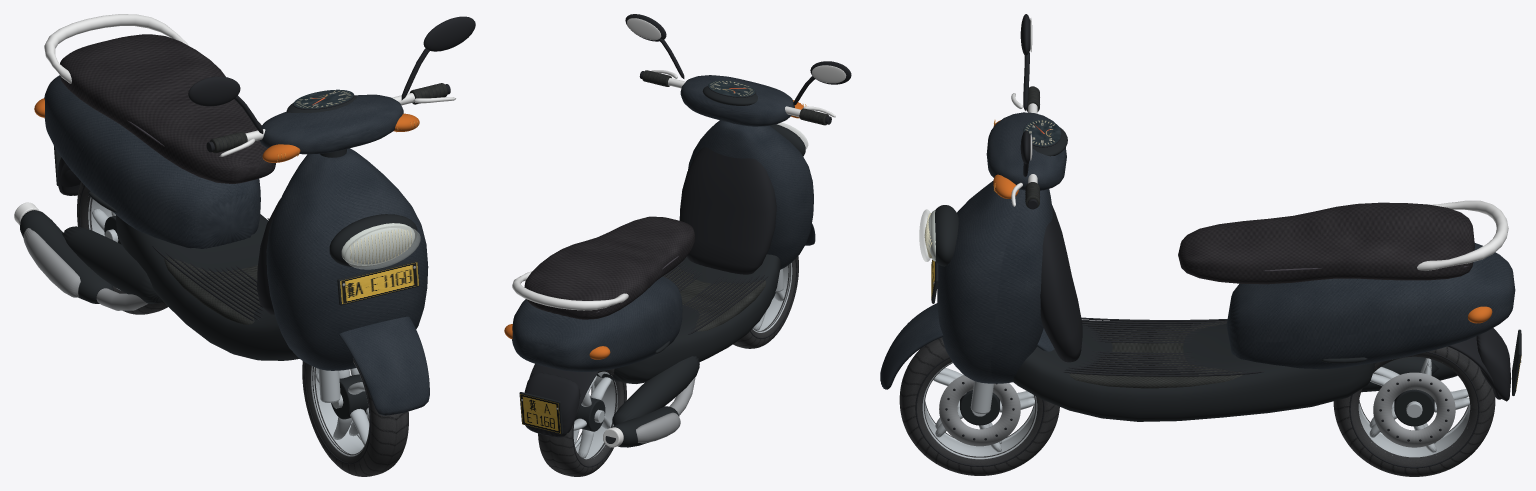
Rendered from scooter-jia-e7168.glb.
3 renders of one model, left to right at view 1: azimuth 30°, elevation 25°; view 2: azimuth 150°, elevation 25°; view 3: azimuth 270°, elevation 25°, orthographic. The views are drawn at different scales.
Parts seen in each view (by area): view 1: ScooterJiaE7168 / Deep charcoal metallic thermoplastic, ScooterJiaE7168 / Pebbled black seat upholstery, ScooterJiaE7168 / Dark graphite bumper trim, HandlebarCowl / Deep charcoal metallic thermoplastic, WheelFront / Molded tread and siping, ScooterJiaE7168 / Black molded polymer, ScooterJiaE7168 / Knurled rubber, WheelFront / Satin silver alloy, ScooterJiaE7168 / Brushed steel, ScooterJiaE7168 / Clear polycarbonate lens, ScooterJiaE7168 / Headlamp reflector, ScooterJiaE7168 / Polished nickel chrome (+12 smaller); view 2: ScooterJiaE7168 / Deep charcoal metallic thermoplastic, ScooterJiaE7168 / Black molded polymer, ScooterJiaE7168 / Pebbled black seat upholstery, ScooterJiaE7168 / Dark graphite bumper trim, HandlebarCowl / Deep charcoal metallic thermoplastic, ScooterJiaE7168 / Knurled rubber, WheelRear / Molded tread and siping, WheelRear / Satin silver alloy, WheelFront / Molded tread and siping, ScooterJiaE7168 / Brushed steel, ScooterJiaE7168 / Polished nickel chrome, RearPlate / Rear yellow registration (+8 smaller); view 3: ScooterJiaE7168 / Deep charcoal metallic thermoplastic, ScooterJiaE7168 / Pebbled black seat upholstery, ScooterJiaE7168 / Dark graphite bumper trim, ScooterJiaE7168 / Black molded polymer, WheelRear / Molded tread and siping, WheelFront / Molded tread and siping, ScooterJiaE7168 / Knurled rubber, HandlebarCowl / Deep charcoal metallic thermoplastic, WheelRear / Brushed steel, WheelFront / Brushed steel, WheelFront / Satin silver alloy, WheelRear / Satin silver alloy (+6 smaller).
Part boxes in pixels (left/top/right/bottom): ScooterJiaE7168 / Deep charcoal metallic thermoplastic: left=44, top=75, right=429, bottom=415; ScooterJiaE7168 / Pebbled black seat upholstery: left=60, top=34, right=275, bottom=183; ScooterJiaE7168 / Dark graphite bumper trim: left=20, top=149, right=417, bottom=360; HandlebarCowl / Deep charcoal metallic thermoplastic: left=259, top=94, right=403, bottom=154; WheelFront / Molded tread and siping: left=302, top=360, right=408, bottom=476; ScooterJiaE7168 / Black molded polymer: left=58, top=157, right=280, bottom=321; ScooterJiaE7168 / Knurled rubber: left=164, top=256, right=260, bottom=324; WheelFront / Satin silver alloy: left=311, top=363, right=369, bottom=456; ScooterJiaE7168 / Brushed steel: left=23, top=228, right=147, bottom=310; ScooterJiaE7168 / Clear polycarbonate lens: left=345, top=225, right=420, bottom=269; ScooterJiaE7168 / Headlamp reflector: left=341, top=223, right=414, bottom=265; ScooterJiaE7168 / Polished nickel chrome: left=44, top=14, right=188, bottom=83; ScooterJiaE7168 / Deep charcoal metallic thermoplastic: left=512, top=120, right=815, bottom=371; ScooterJiaE7168 / Black molded polymer: left=524, top=147, right=776, bottom=437; ScooterJiaE7168 / Pebbled black seat upholstery: left=524, top=216, right=694, bottom=319; ScooterJiaE7168 / Dark graphite bumper trim: left=596, top=123, right=805, bottom=447; HandlebarCowl / Deep charcoal metallic thermoplastic: left=680, top=75, right=794, bottom=126; ScooterJiaE7168 / Knurled rubber: left=663, top=267, right=765, bottom=331; WheelRear / Molded tread and siping: left=538, top=369, right=626, bottom=476; WheelRear / Satin silver alloy: left=573, top=371, right=617, bottom=459; WheelFront / Molded tread and siping: left=733, top=256, right=798, bottom=348; ScooterJiaE7168 / Brushed steel: left=636, top=377, right=695, bottom=443; ScooterJiaE7168 / Polished nickel chrome: left=512, top=271, right=628, bottom=310; RearPlate / Rear yellow registration: left=520, top=394, right=560, bottom=433; ScooterJiaE7168 / Deep charcoal metallic thermoplastic: left=880, top=181, right=1515, bottom=389; ScooterJiaE7168 / Pebbled black seat upholstery: left=1178, top=202, right=1474, bottom=284; ScooterJiaE7168 / Dark graphite bumper trim: left=935, top=205, right=1457, bottom=421; ScooterJiaE7168 / Black molded polymer: left=1040, top=205, right=1511, bottom=401; WheelRear / Molded tread and siping: left=1333, top=346, right=1495, bottom=476; WheelFront / Molded tread and siping: left=899, top=337, right=1059, bottom=475; ScooterJiaE7168 / Knurled rubber: left=1069, top=320, right=1242, bottom=388; HandlebarCowl / Deep charcoal metallic thermoplastic: left=986, top=112, right=1066, bottom=190; WheelRear / Brushed steel: left=1373, top=372, right=1455, bottom=447; WheelFront / Brushed steel: left=939, top=375, right=1020, bottom=446; WheelFront / Satin silver alloy: left=922, top=362, right=1037, bottom=459; WheelRear / Satin silver alloy: left=1358, top=358, right=1470, bottom=457.
Bounding box in the file's own units: 0.9392 × 1.27 × 1.86.
21 materials, 7 textured.
